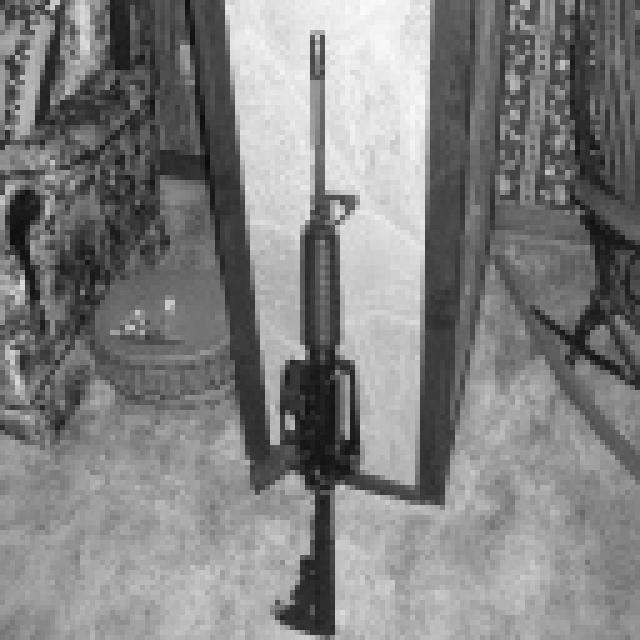Rifle: (215, 35, 440, 640)
